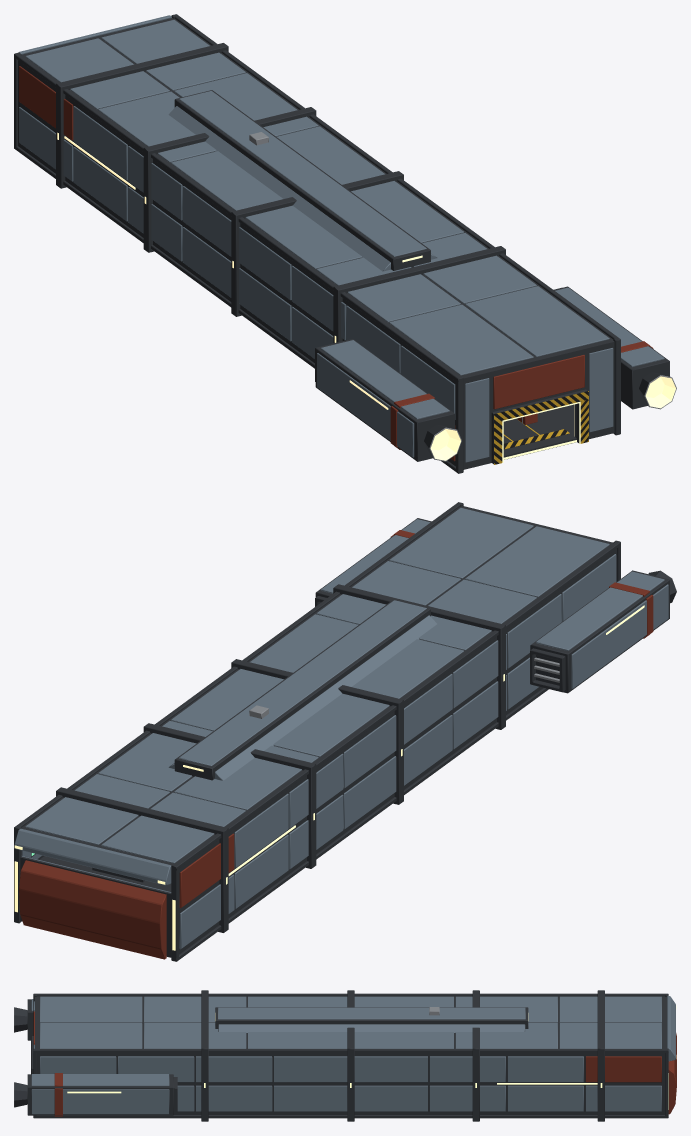
File: carrier.glb
3 renders of one model, top to bottom at view 1: azimuth 30°, elevation 25°; view 2: azimuth 150°, elevation 25°; view 3: azimuth 270°, elevation 25°, orthographic. The views are drawn at different scales.
Visible parts, largest first — view 1: exterior, engines, hangar; view 2: exterior, engines, bridge; view 3: exterior, engines.
Part boxes in pixels (bbox=[...]): exterior: bbox=[14, 14, 620, 473]; engines: bbox=[315, 286, 676, 461]; hangar: bbox=[503, 404, 576, 457]; exterior: bbox=[14, 502, 620, 961]; engines: bbox=[315, 518, 676, 693]; bridge: bbox=[21, 850, 171, 892]; exterior: bbox=[31, 990, 676, 1121]; engines: bbox=[14, 999, 177, 1116].
Bounding box in the file's own units: 20.34 × 8.9 × 63.55.
